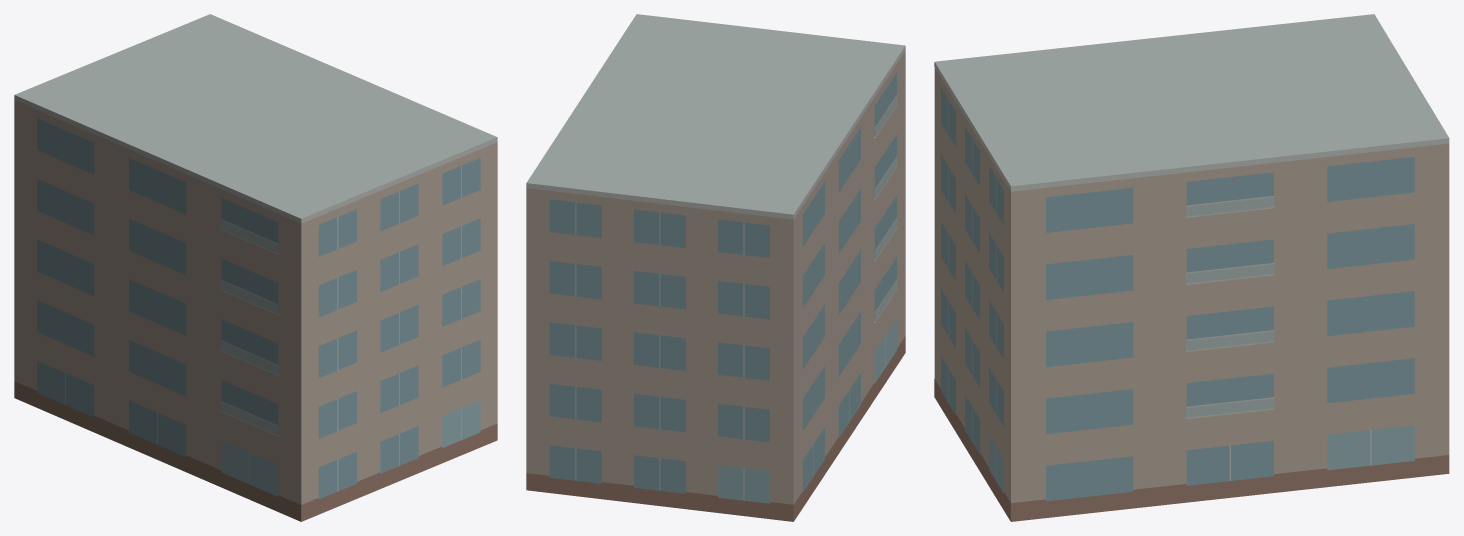
The model's file is survey-upis-32768840.glb.
3 renders of one model, left to right at view 1: azimuth 30°, elevation 25°; view 2: azimuth 150°, elevation 25°; view 3: azimuth 270°, elevation 25°, orthographic. The views are drawn at different scales.
Parts seen in each view (by area): view 1: survey-upis-32768840.tmp; view 2: survey-upis-32768840.tmp; view 3: survey-upis-32768840.tmp.
Boxes of the visible parts, x1,y1,x2,y2 form: survey-upis-32768840.tmp: (14, 14, 497, 521); survey-upis-32768840.tmp: (526, 14, 905, 521); survey-upis-32768840.tmp: (934, 14, 1449, 521).
Size of the model in its own units: 16.81 by 15.25 by 21.22.
